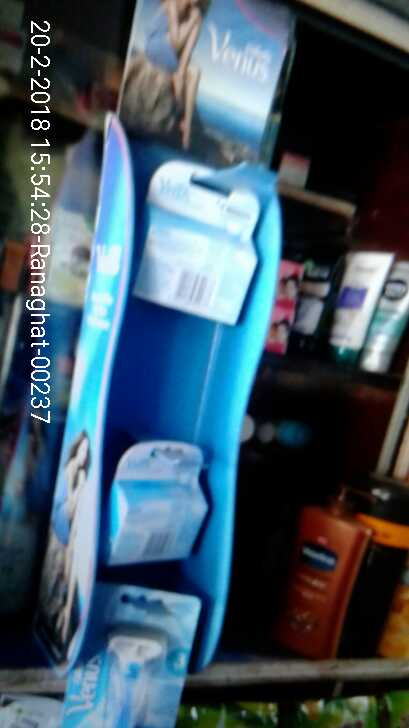reject: (87, 378, 288, 564)
